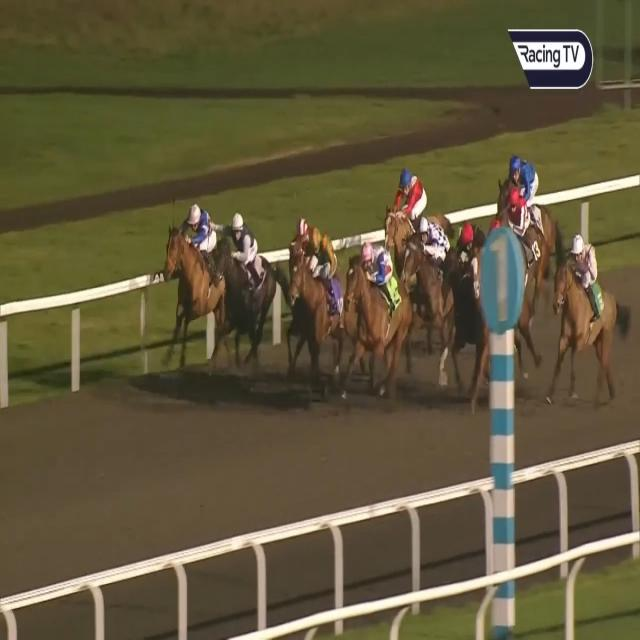horses-racing: (551, 229, 627, 401), (342, 241, 418, 386), (290, 233, 348, 407), (215, 215, 275, 362), (444, 223, 494, 382), (165, 202, 222, 340), (400, 212, 460, 338), (490, 153, 557, 237), (377, 165, 431, 251), (492, 188, 566, 238), (291, 217, 324, 253)
